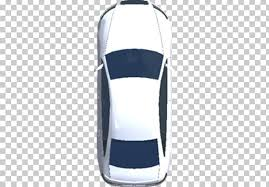car: (91, 1, 175, 185)
